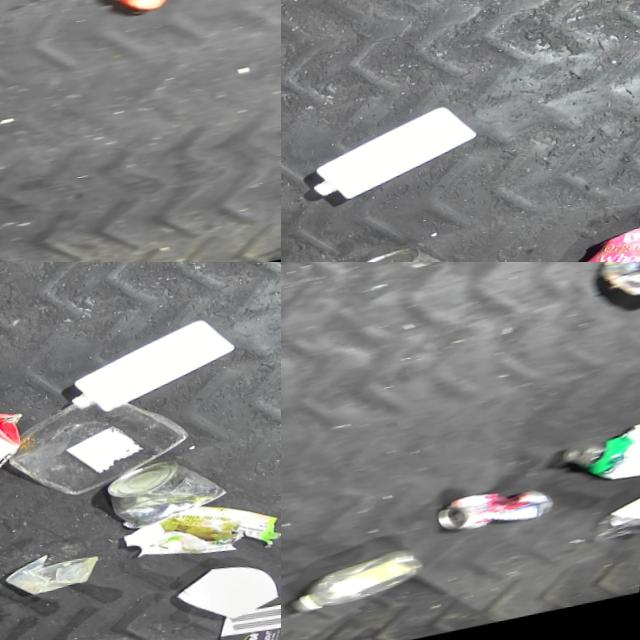can: (110, 454, 237, 538), (427, 489, 563, 555), (351, 241, 478, 262)
milk_jug: (64, 318, 243, 425), (307, 105, 486, 210)
non_white_jug: (27, 0, 228, 38), (557, 431, 640, 506), (0, 399, 43, 514)
plastic_bottle: (284, 550, 442, 630)
